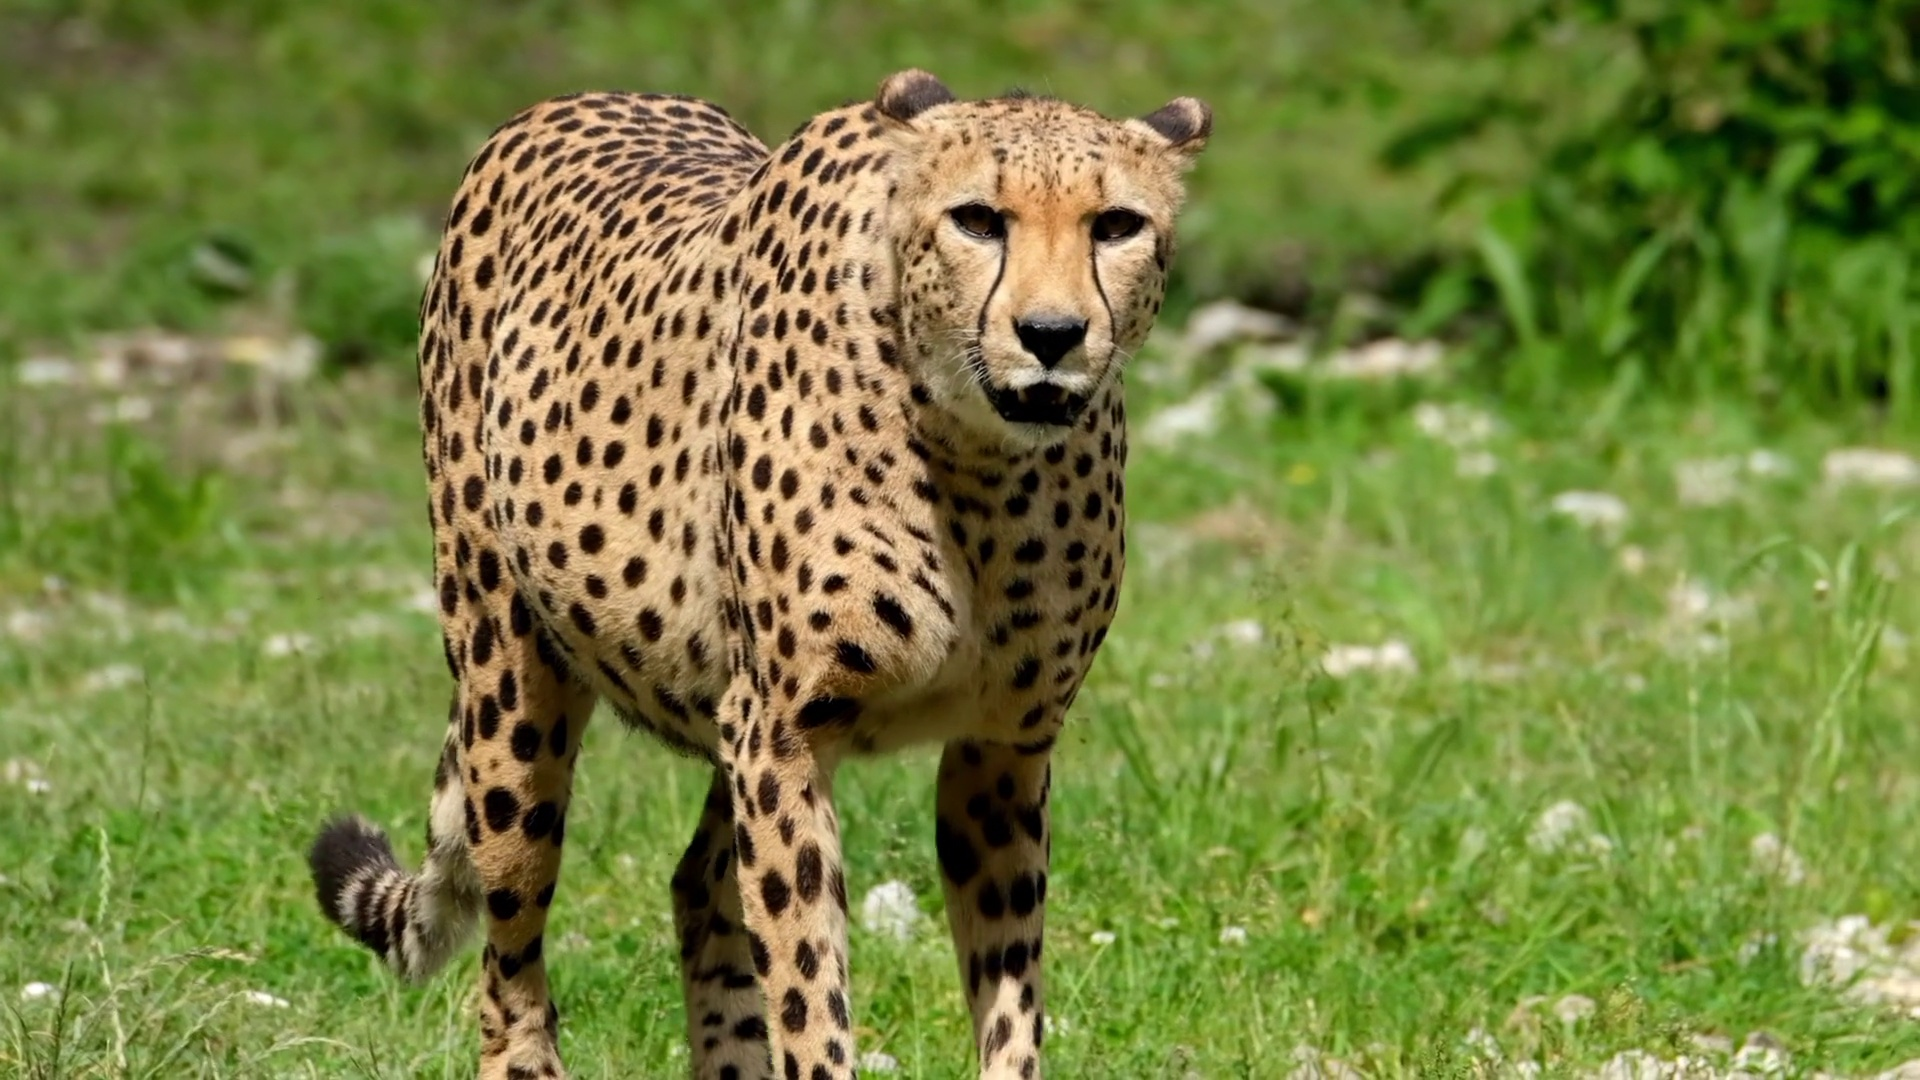Cheetah: (301, 65, 1222, 1080)
